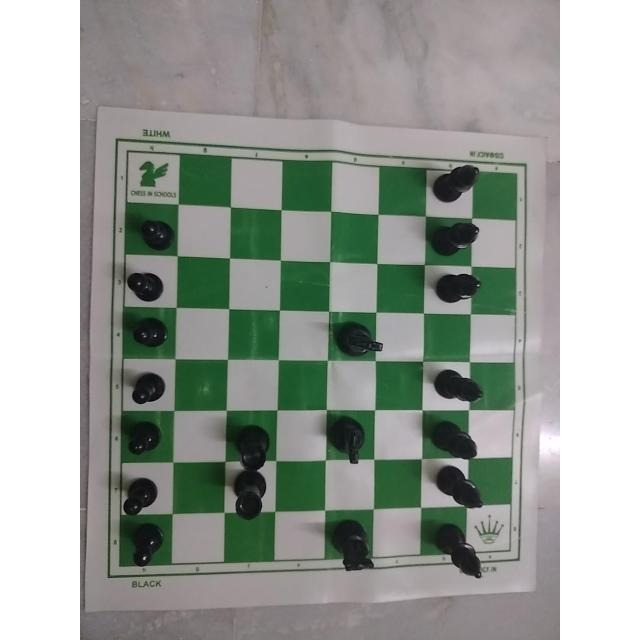black-bishop: (435, 525, 493, 589), (431, 465, 493, 517), (431, 156, 483, 210), (436, 358, 490, 410), (426, 416, 487, 460), (436, 268, 486, 311), (430, 218, 482, 258)
black-knight: (326, 516, 380, 575), (323, 315, 381, 365), (329, 410, 377, 470)
black-pawn: (116, 525, 174, 573), (116, 416, 168, 464), (113, 478, 168, 518), (122, 263, 174, 305), (124, 365, 172, 409), (125, 311, 175, 353), (133, 210, 176, 252)
black-rook: (218, 418, 279, 469), (223, 475, 277, 527)
